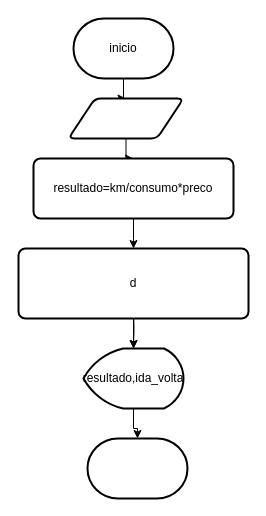
Some shapes in this 266 by 516 pixel diagram are drawn without their labels. Here are the shapes that lost their labels. From the top down, the centre of each, then its label:
the point at 125,118: quilometros,consumo,preco
the point at 137,468: fim
